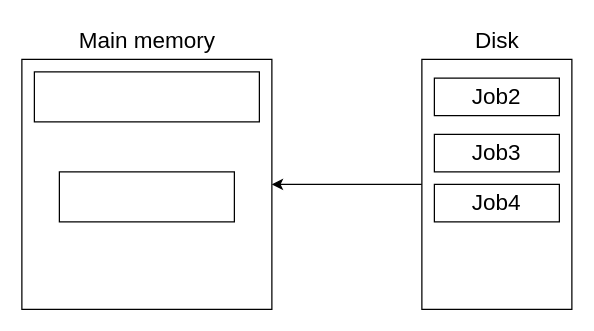
Image size: 594x331. Some labels were removed from this diagram. Each missing label, with the box of its shape:
Job1: (58, 171, 234, 222)
Monitor: (33, 71, 259, 122)
